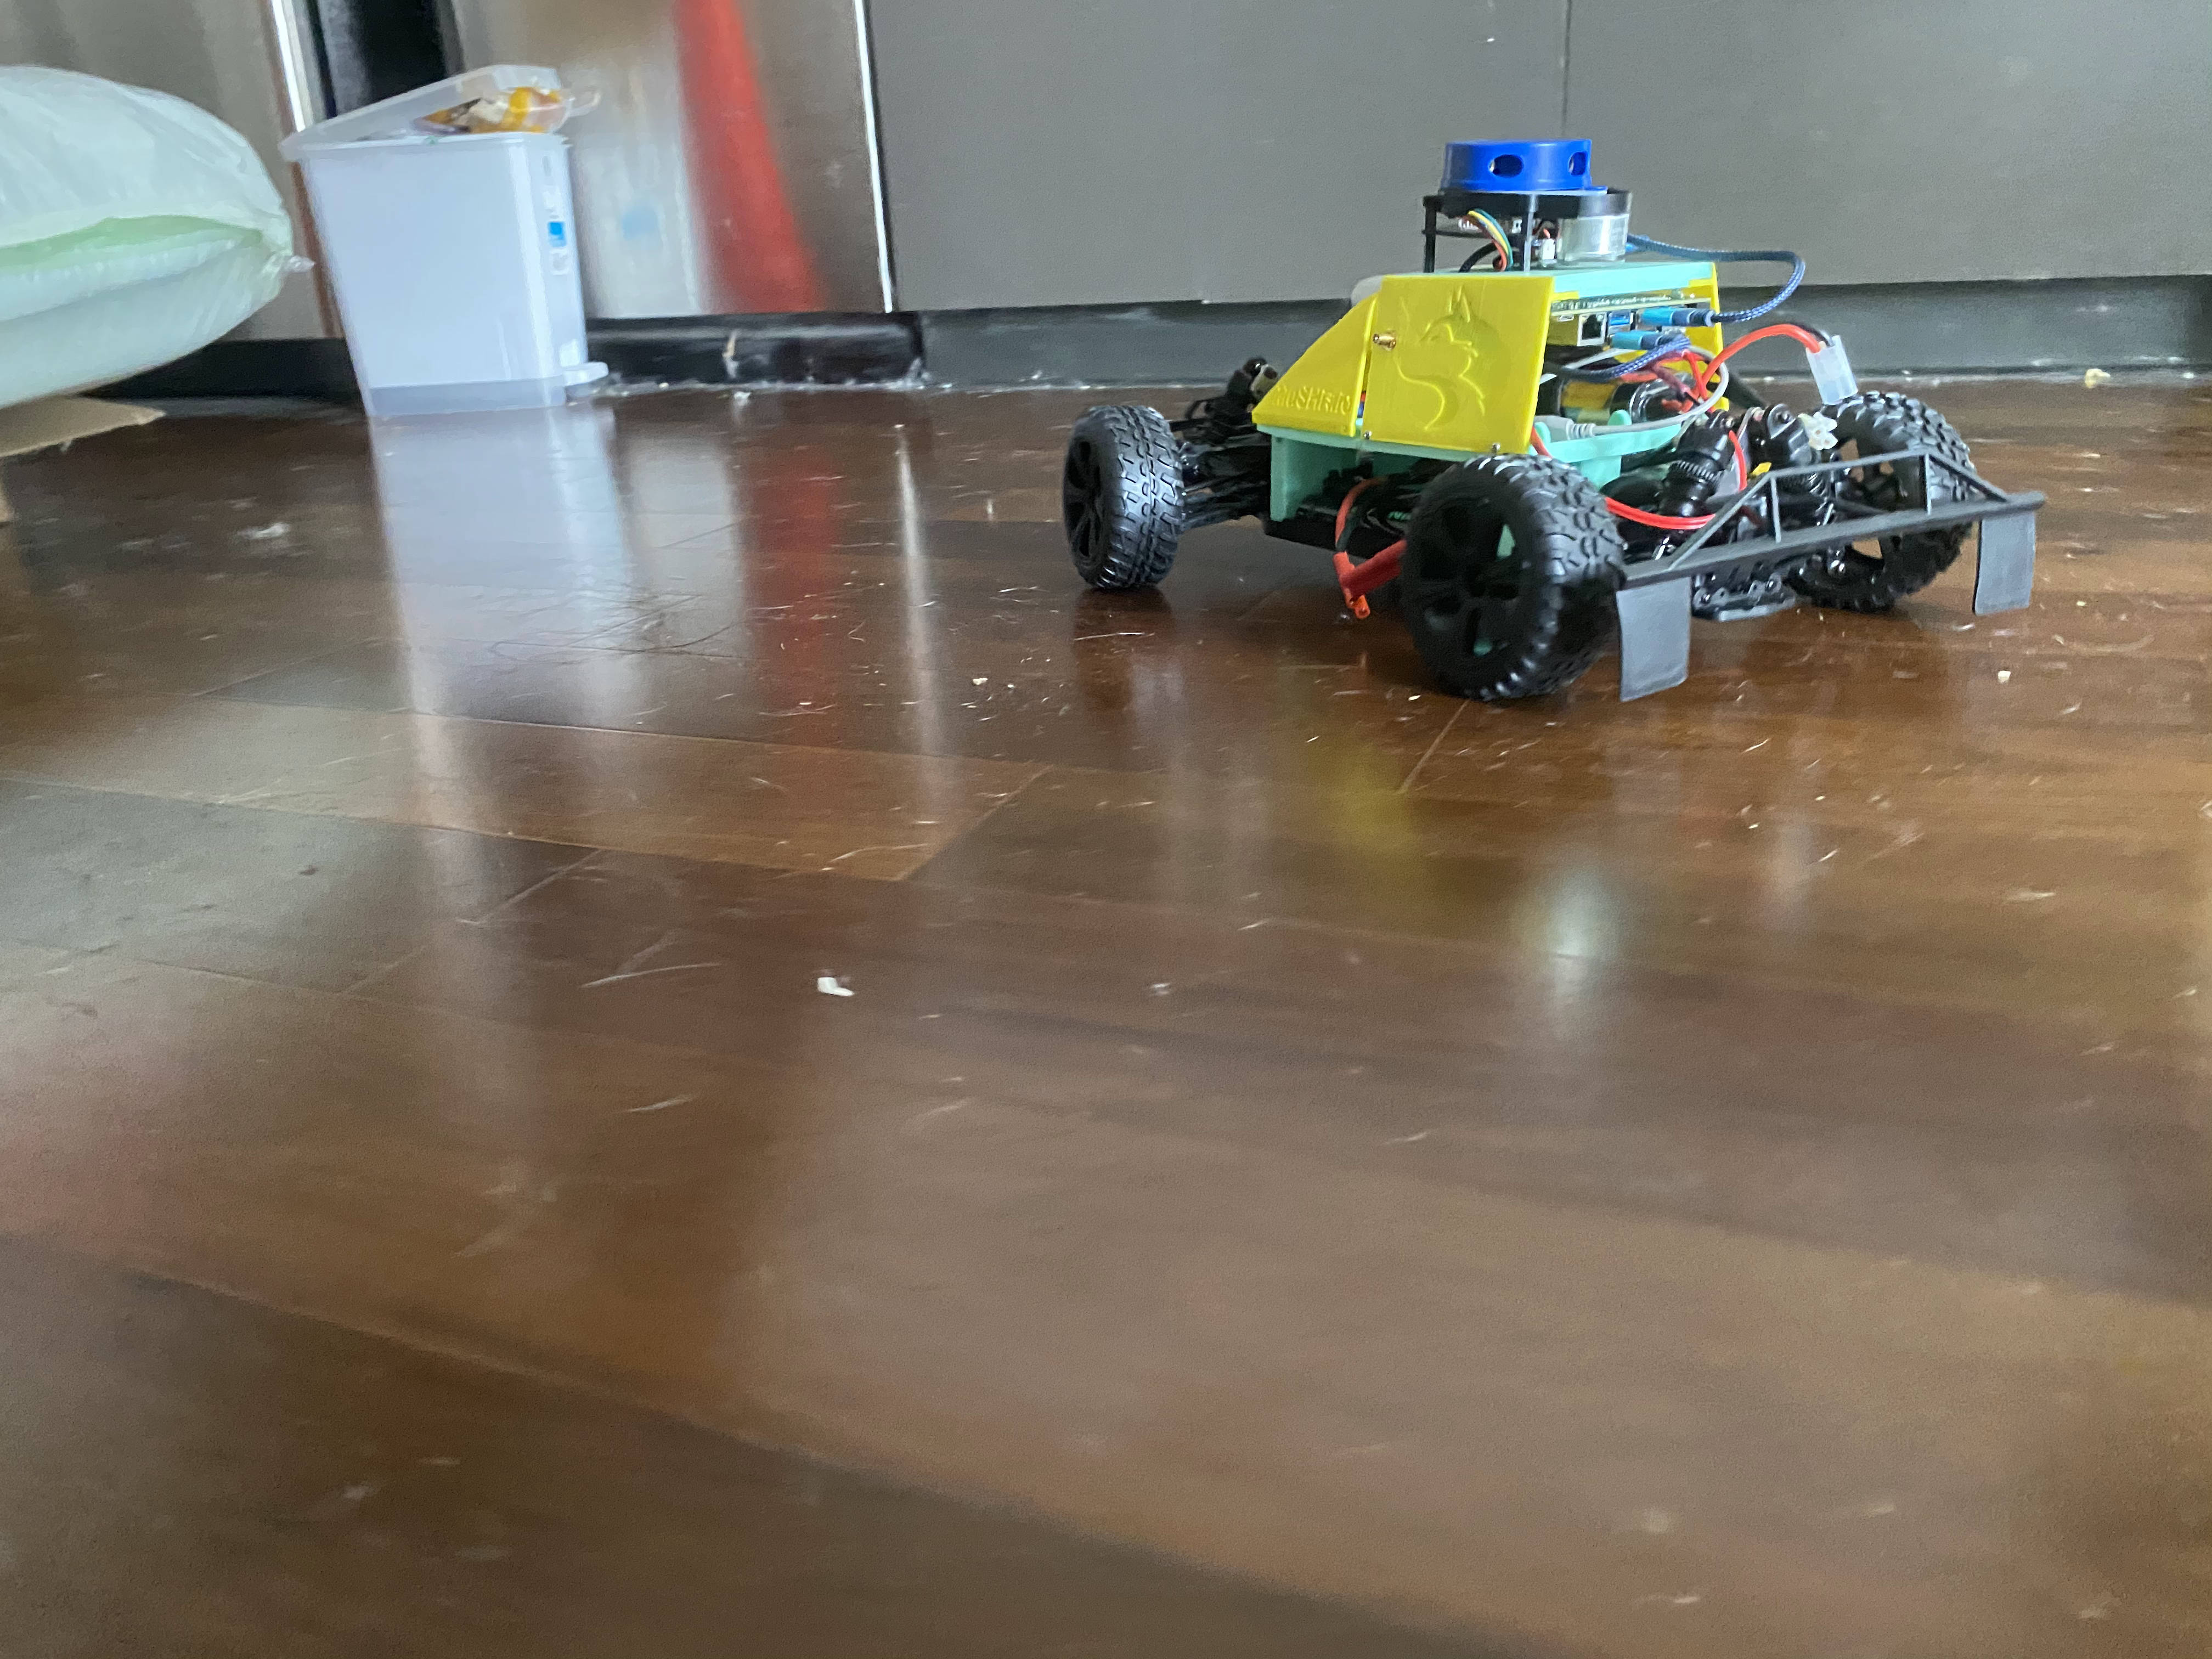mushr_car: (1003, 127, 2062, 714)
